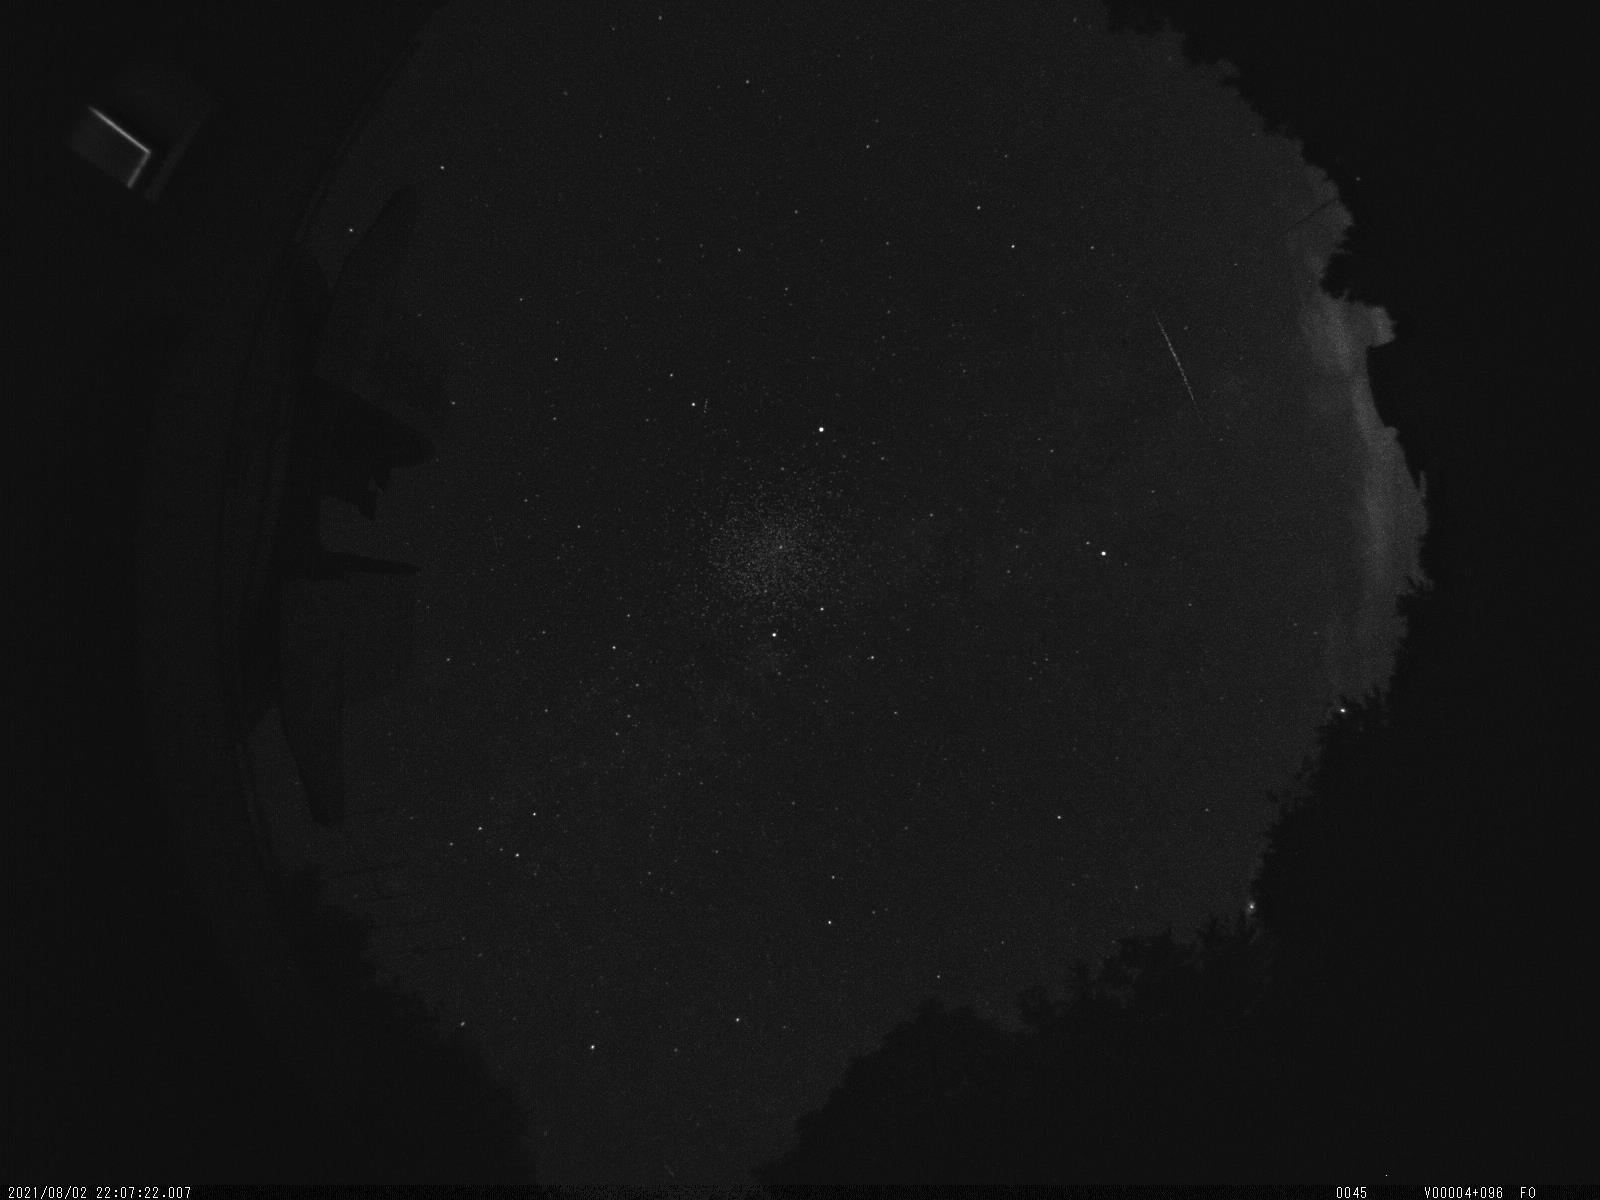Meteor: (1150, 303, 1206, 424)
